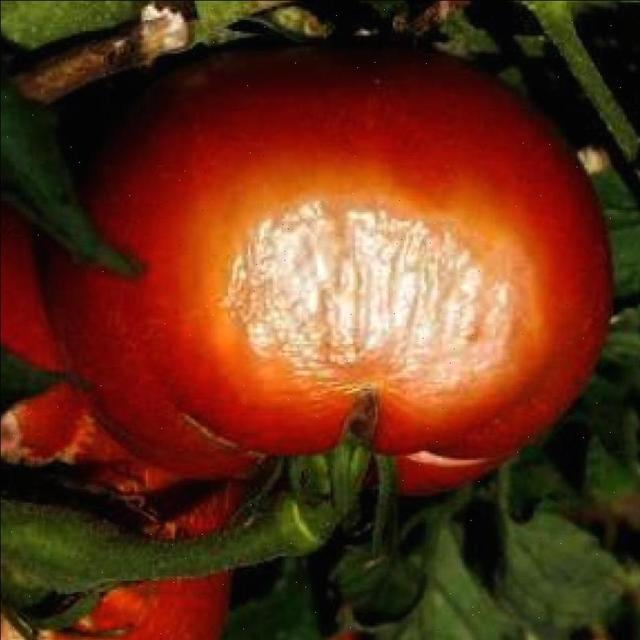Sunscald Fruit: (126, 119, 366, 282)
